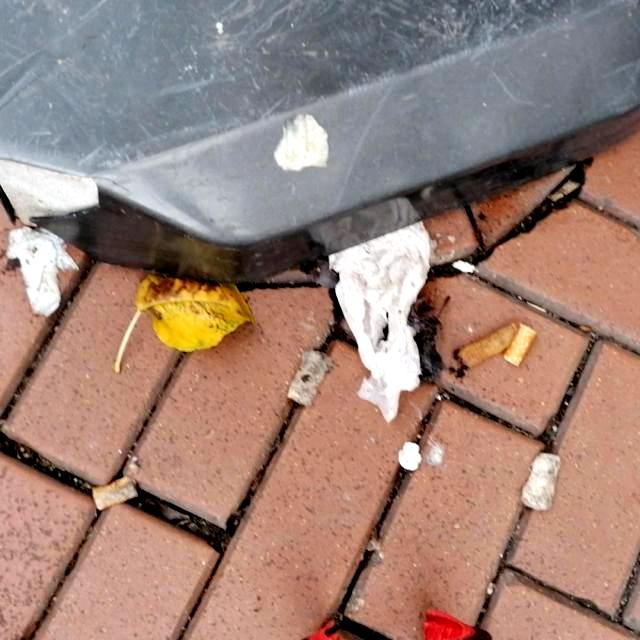Paper: (328, 218, 434, 426), (5, 222, 81, 320)
